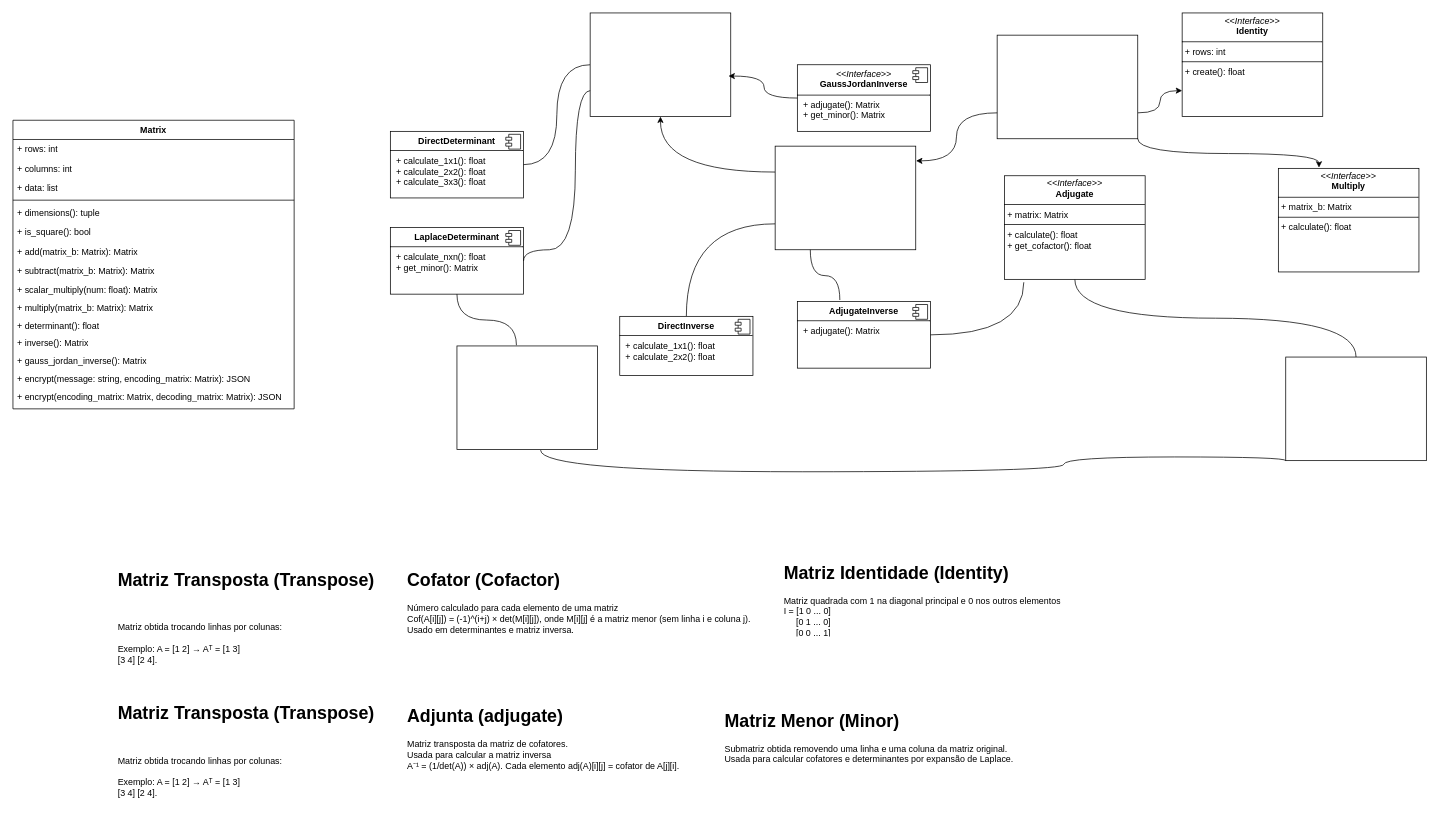
This 1439x820 diagram has some shape labels left out. Each missing label, with the centre of its shape:
"<<Interface>> Determinant + matrix: Matrix + calculate(): float" goes at pixel 660 64.
"<<Interface>> get_cofactor + matrix: Matrix + calculate(): float" goes at pixel 1355 408.
"<<Interface>> get_minor + matrix: Matrix + calculate(): float" goes at pixel 527 397.
"<<Interface>> Inverse + matrix: Matrix + calculate(): float" goes at pixel 845 197.
"<<Interface>> VerifyInverse + matrix_inverse: Matrix + calculate(): float" goes at pixel 1067 86.
